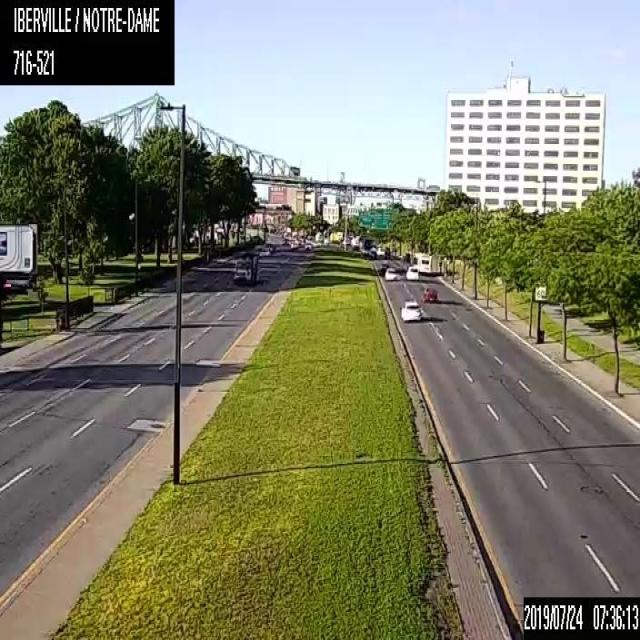bus: (412, 252, 431, 272)
vehicle: (232, 251, 258, 284), (399, 299, 422, 321), (404, 265, 419, 279), (423, 286, 436, 302), (384, 265, 397, 280), (259, 246, 270, 256), (303, 240, 312, 249), (289, 240, 297, 249)
